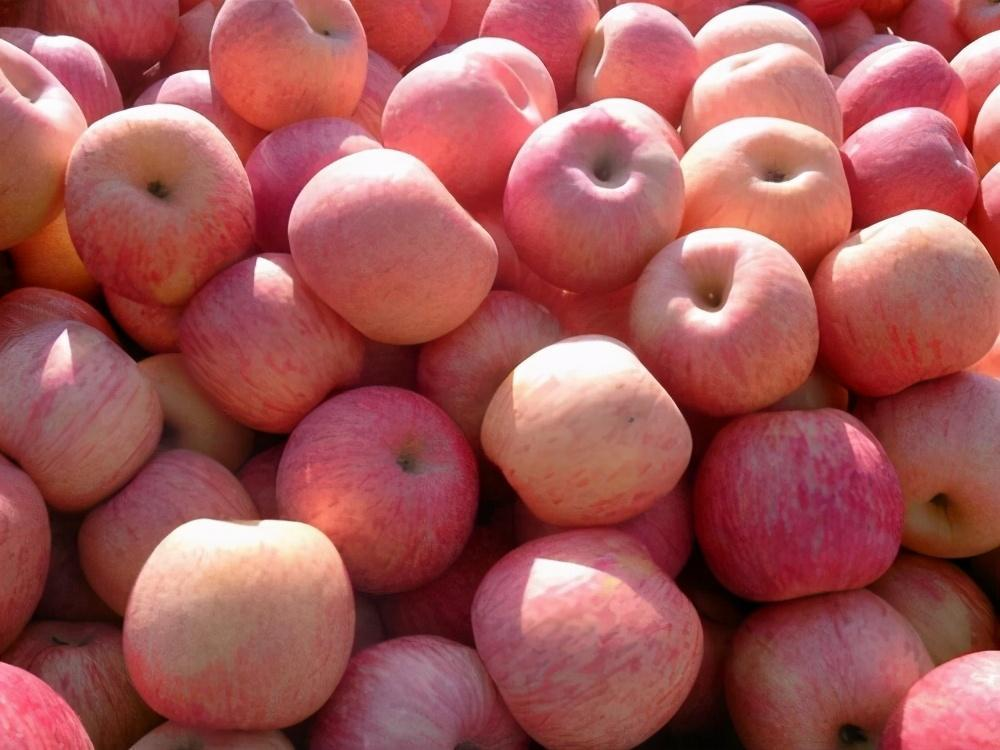apple: (120, 512, 357, 739), (466, 522, 702, 745), (273, 386, 479, 597), (481, 330, 695, 526), (690, 410, 904, 605), (290, 150, 497, 344), (173, 250, 379, 442), (66, 102, 259, 306), (625, 231, 821, 426), (499, 97, 685, 301), (814, 208, 1000, 398), (73, 442, 263, 618), (720, 588, 929, 743), (5, 323, 163, 510), (674, 117, 850, 277), (855, 369, 1000, 563), (416, 288, 565, 453), (382, 53, 541, 206), (320, 634, 527, 750), (209, 1, 369, 137), (2, 39, 90, 253), (838, 106, 983, 235), (12, 621, 159, 747), (677, 42, 843, 149), (577, 7, 703, 136), (865, 548, 995, 666), (134, 351, 253, 474), (834, 36, 963, 146), (888, 652, 1000, 750), (36, 3, 183, 74)
